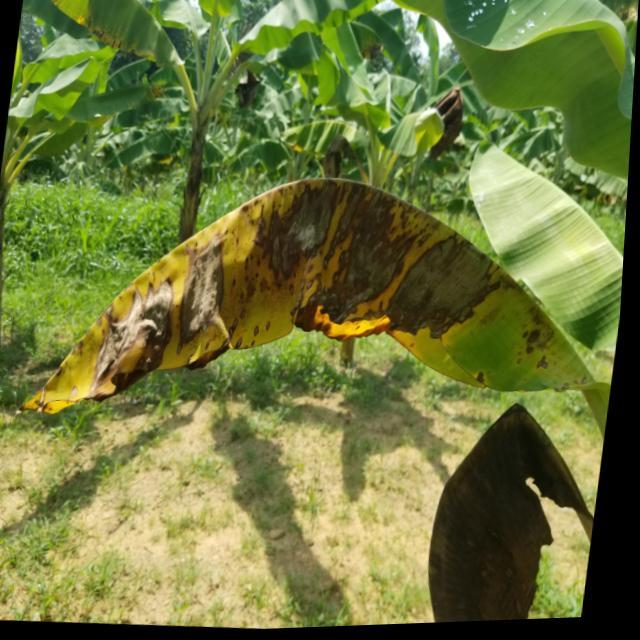Early_rust: (40, 160, 560, 474)
